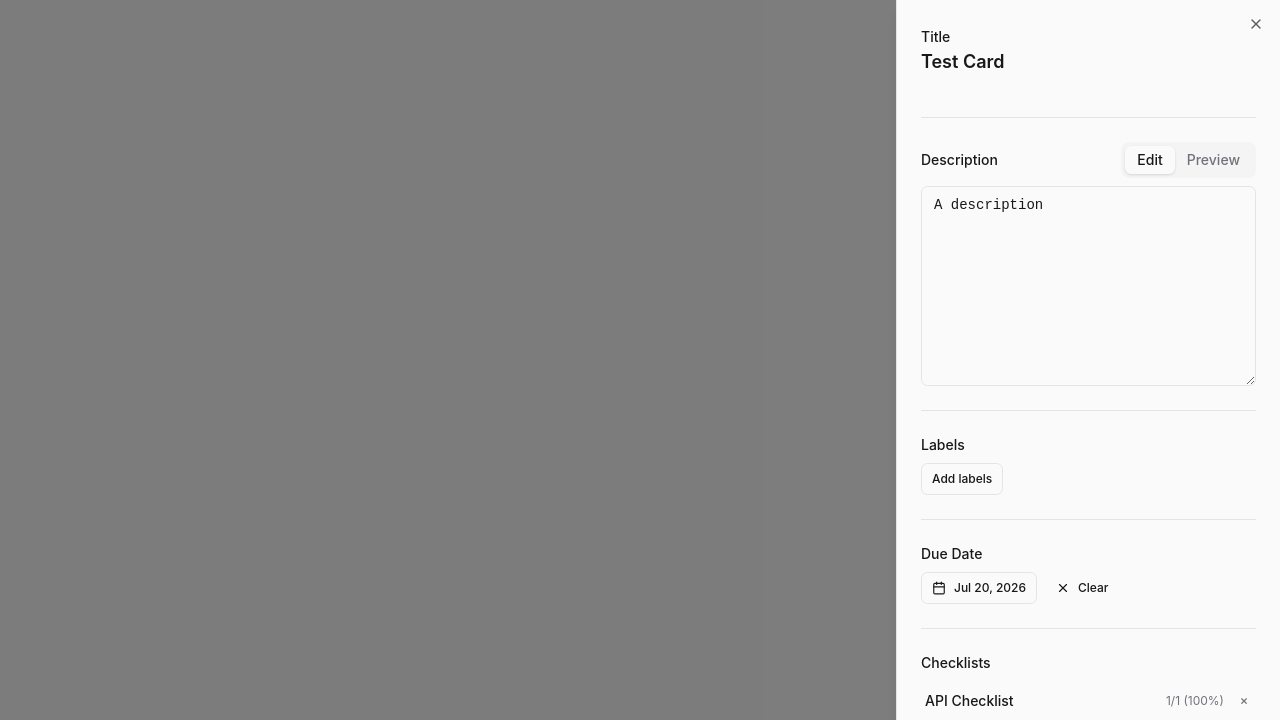
Test case: CardDetailPanel › Markdown description editor › switches back to Edit tab and preserves textarea content
Click the tab "Preview".
click(1213, 160)  # box [1175,146,1252,174]
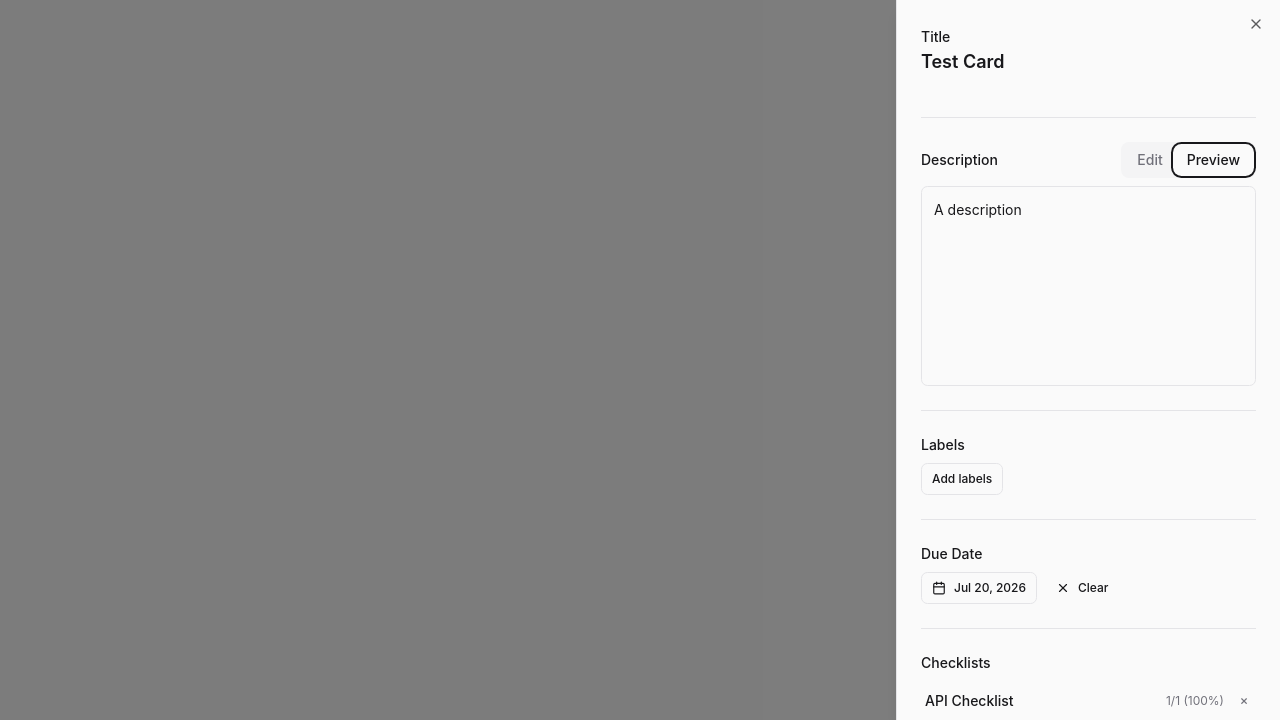
Click the tab "Edit".
click(1150, 160)  # box [1125,146,1175,174]
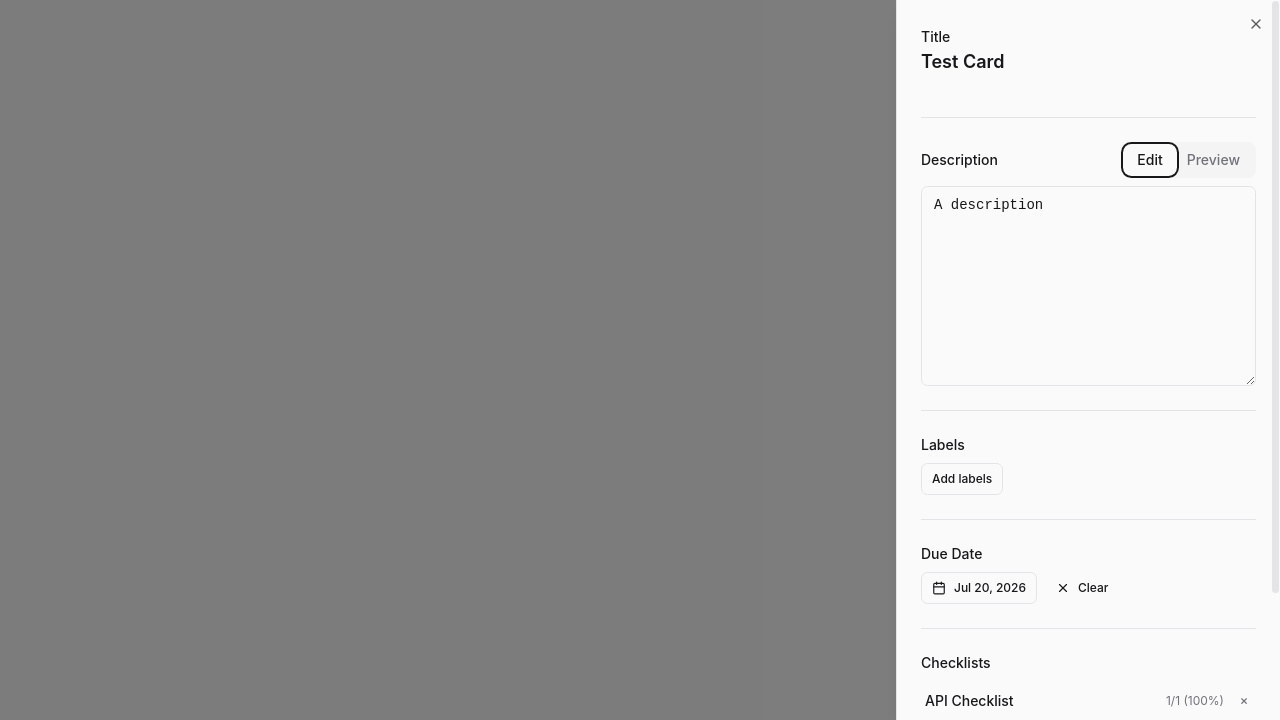
Result: the text box named "Card description" holds "A description" at [921,186,1256,386]
